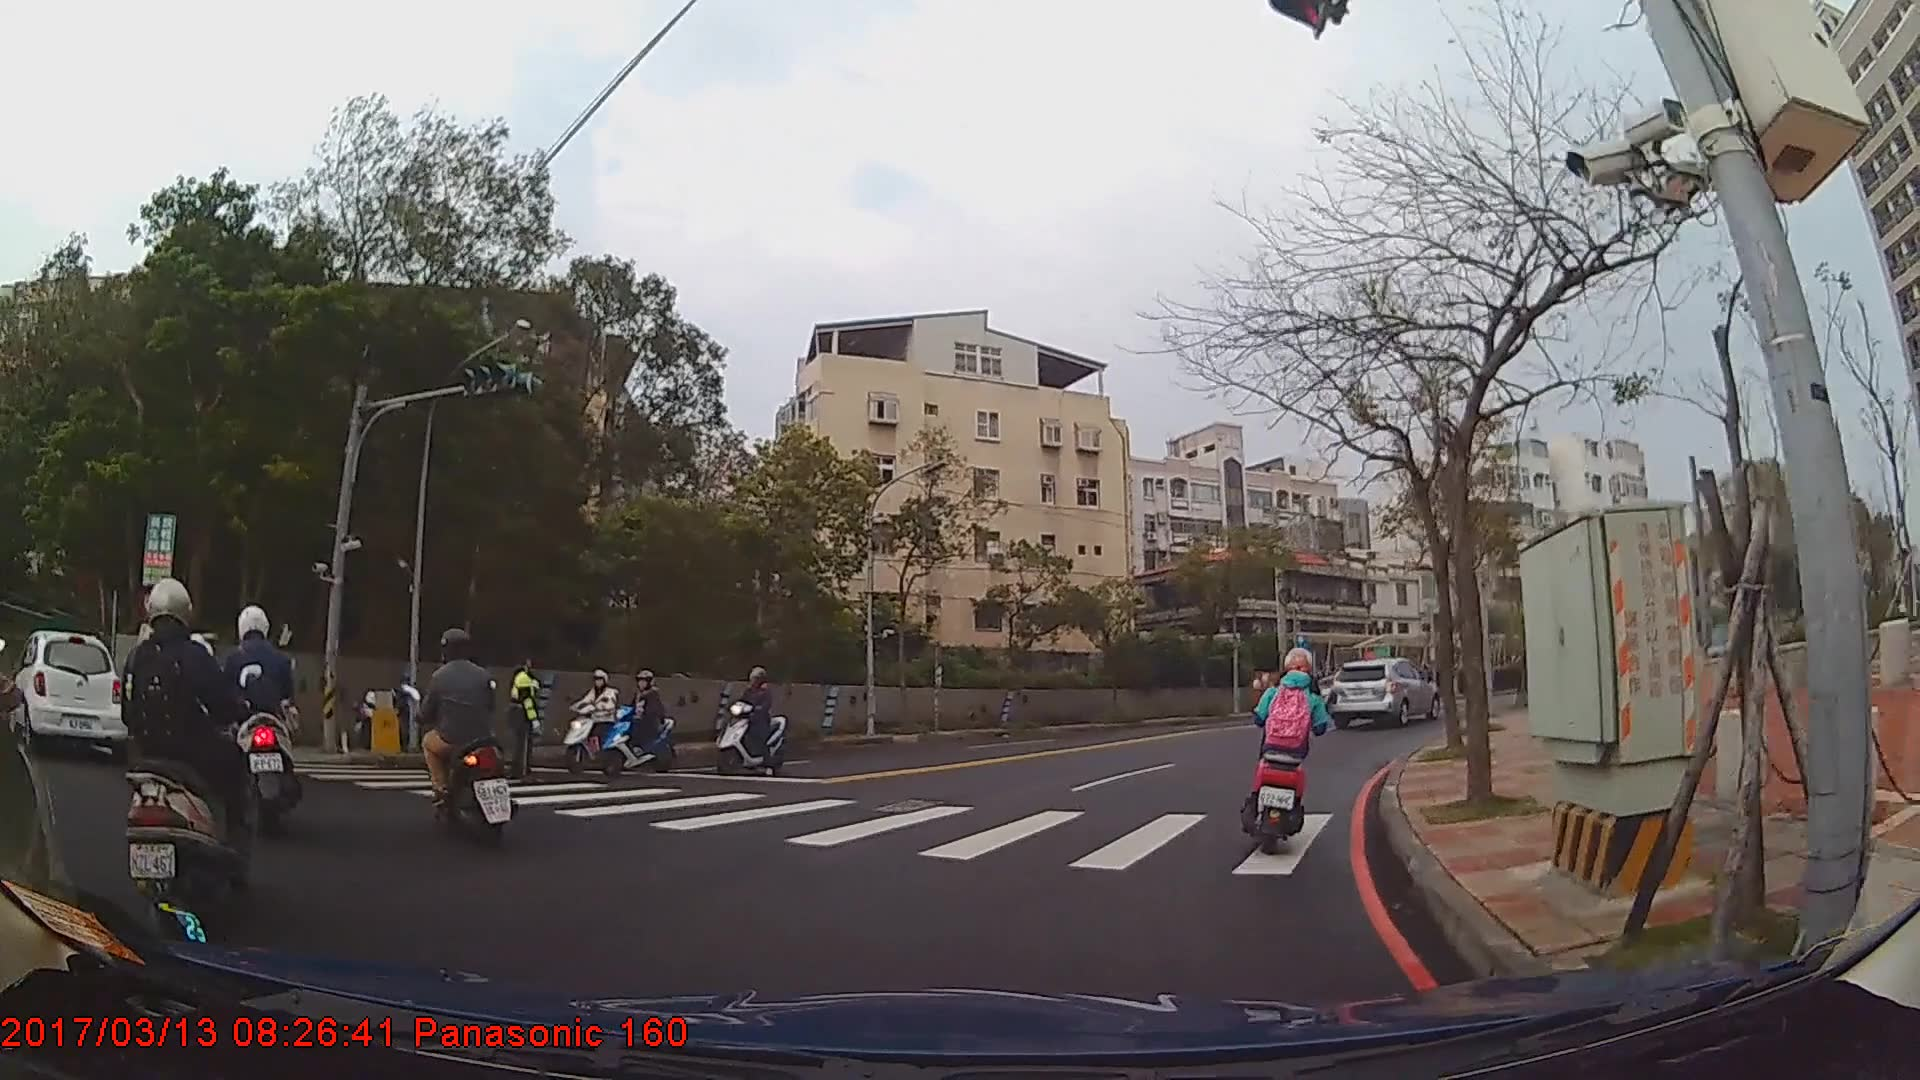pedestrian: (499, 657, 542, 789)
rider: (119, 578, 262, 931), (405, 629, 518, 853), (221, 607, 307, 844), (1246, 646, 1331, 848), (714, 671, 787, 778), (601, 671, 674, 778), (563, 673, 629, 772)
vehicle: (10, 628, 127, 754), (1327, 659, 1439, 730)
